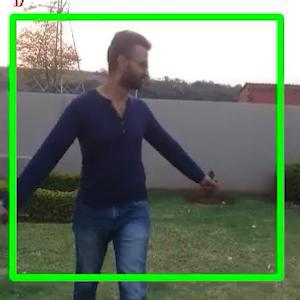land: (0, 18, 236, 299)
